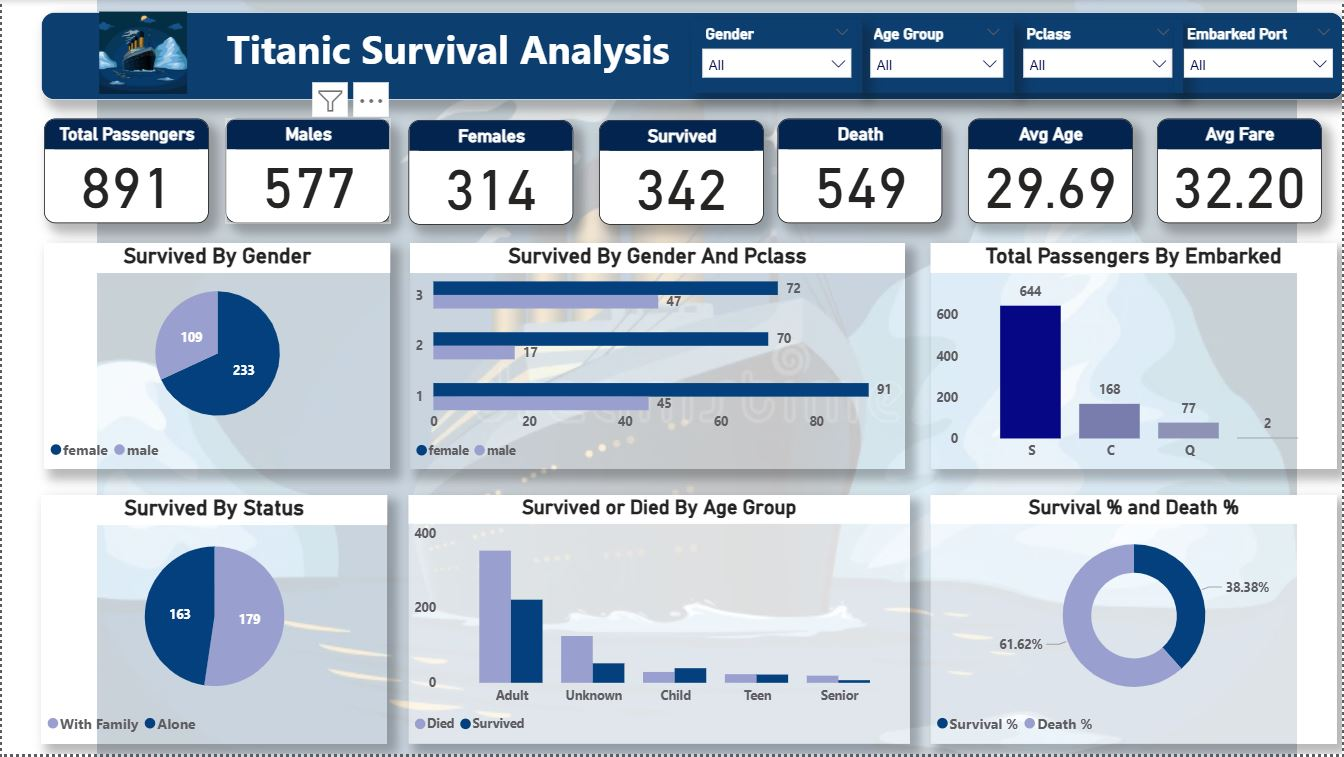

The page's visual inventory and layout, read from the dashboard file:
{"tool":"powerbi","page":{"name":"Titanic","canvas":[1280,720],"ordinal":0},"visuals":[{"type":"textbox","box":[36.6,11.1,1243.9,84.3],"z":0},{"type":"card","title":"Total Passengers","fields":{"Values":["calculation_table.total_passenger"]},"box":[39.8,112.9,157.5,100.2],"z":1000},{"type":"card","title":"Males","fields":{"Values":["calculation_table.Total Males"]},"box":[213.1,112.9,157.5,100.2],"z":2000},{"type":"card","title":"Females","fields":{"Values":["calculation_table.Total Females"]},"box":[388.1,114.5,157.5,100.2],"z":3000},{"type":"card","title":"Avg Fare","fields":{"Values":["calculation_table.Avg Fare"]},"box":[1102.3,112.9,157.5,100.2],"z":4000},{"type":"card","title":"Survived","fields":{"Values":["calculation_table.Survived Count"]},"box":[569.4,114.5,157.5,100.2],"z":5000},{"type":"card","title":"Death","fields":{"Values":["calculation_table.no survived count"]},"box":[741.2,112.9,157.5,100.2],"z":6000},{"type":"card","title":"Avg Age","fields":{"Values":["calculation_table.Avg Age"]},"box":[922.6,112.9,157.5,100.2],"z":7000},{"type":"pieChart","title":"Survived By Gender","fields":{"Category":["Titanic-Dataset.Sex"],"Y":["calculation_table.Survived Count"]},"box":[39.8,232.2,330.8,216.3],"z":8000},{"type":"columnChart","title":"Total Passengers By Embarked","fields":{"Y":["calculation_table.total_passenger"],"Category":["Titanic-Dataset.Embarked"]},"box":[886,232.2,388.1,216.3],"z":9000},{"type":"clusteredBarChart","title":"Survived By Gender And Pclass","fields":{"Category":["Titanic-Dataset.Pclass"],"Y":["calculation_table.Survived Count"],"Series":["Titanic-Dataset.Sex"]},"box":[389.7,232.2,472.4,216.3],"z":10000},{"type":"slicer","title":"Survived By Gender And Pclass","fields":{"Values":["Titanic-Dataset.Sex"]},"box":[658.5,19.1,162.2,70],"z":11000},{"type":"clusteredColumnChart","title":"Survived or Died By Age Group","fields":{"Category":["Titanic-Dataset.Age Group"],"Y":["calculation_table.total_passenger"],"Series":["Titanic-Dataset.Survival Status"]},"box":[388.1,472.4,478.8,237],"z":12000},{"type":"slicer","title":"Survived By Gender And Pclass","fields":{"Values":["Titanic-Dataset.Age Group"]},"box":[819.2,19.1,146.3,70],"z":13000},{"type":"slicer","title":"Survived By Gender And Pclass","fields":{"Values":["Titanic-Dataset.Pclass"]},"box":[965.5,19.1,162.2,70],"z":14000},{"type":"slicer","title":"Survived By Gender And Pclass","fields":{"Values":["Titanic-Dataset.Embarked"]},"box":[1118.2,19.1,162.2,70],"z":15000},{"type":"pieChart","title":"Survived By Status","fields":{"Category":["Titanic-Dataset.Travel Type"],"Y":["calculation_table.Survived Count"]},"box":[36.6,472.4,330.8,237],"z":16000},{"type":"donutChart","fields":{"Y":["calculation_table.Survival Percentage","calculation_table.no survived percentage"]},"box":[886,472.4,388.1,237],"z":17000},{"type":"image","box":[39.8,6.4,189.3,89.1],"z":17001}]}

Visuals, with their boxes in screenshot pixels (x1, y1, x2, y2), scaled from the page's 1280x720 canvas onto the 1344x757 screenshot:
textbox: x1=38 y1=12 x2=1343 y2=100
"Total Passengers" card: x1=42 y1=119 x2=207 y2=224
"Males" card: x1=224 y1=119 x2=389 y2=224
"Females" card: x1=408 y1=120 x2=573 y2=226
"Avg Fare" card: x1=1157 y1=119 x2=1323 y2=224
"Survived" card: x1=598 y1=120 x2=763 y2=226
"Death" card: x1=778 y1=119 x2=944 y2=224
"Avg Age" card: x1=969 y1=119 x2=1134 y2=224
"Survived By Gender" pieChart: x1=42 y1=244 x2=389 y2=472
"Total Passengers By Embarked" columnChart: x1=930 y1=244 x2=1338 y2=472
"Survived By Gender And Pclass" clusteredBarChart: x1=409 y1=244 x2=905 y2=472
"Survived By Gender And Pclass" slicer: x1=691 y1=20 x2=862 y2=94
"Survived or Died By Age Group" clusteredColumnChart: x1=408 y1=497 x2=910 y2=746
"Survived By Gender And Pclass" slicer: x1=860 y1=20 x2=1014 y2=94
"Survived By Gender And Pclass" slicer: x1=1014 y1=20 x2=1184 y2=94
"Survived By Gender And Pclass" slicer: x1=1174 y1=20 x2=1343 y2=94
"Survived By Status" pieChart: x1=38 y1=497 x2=386 y2=746
donutChart - calculation_table.Survival Percentage x calculation_table.no survived percentage: x1=930 y1=497 x2=1338 y2=746
image: x1=42 y1=7 x2=241 y2=100
